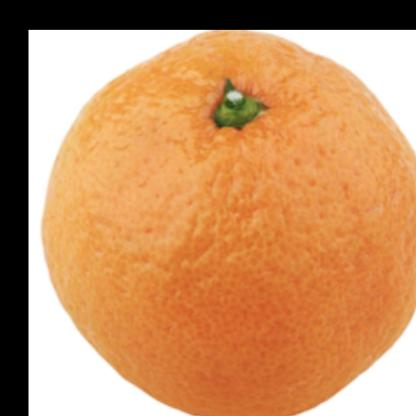fresh: (42, 32, 416, 416)
